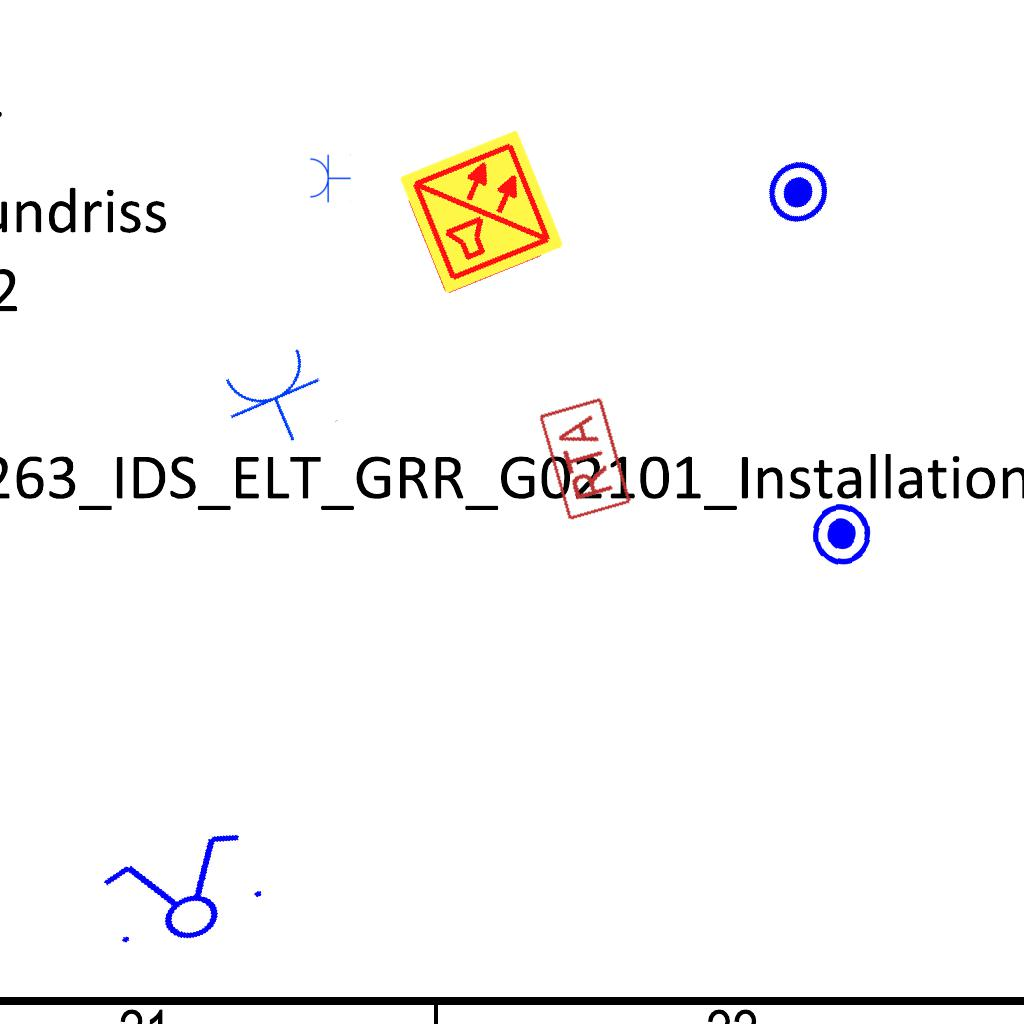OKW_Multisensormelder_(Kombination_optischer_Rauch-Kahlenmonoxid_Waerme-Melder): (396, 126, 568, 298)
Ruf-und_Abstelltaster: (536, 395, 635, 525)
Schukosteckdose_einfach: (213, 340, 341, 461), (308, 153, 351, 203)
Serienschalter: (86, 820, 278, 966)
Taster: (750, 145, 842, 237), (808, 498, 880, 570)
